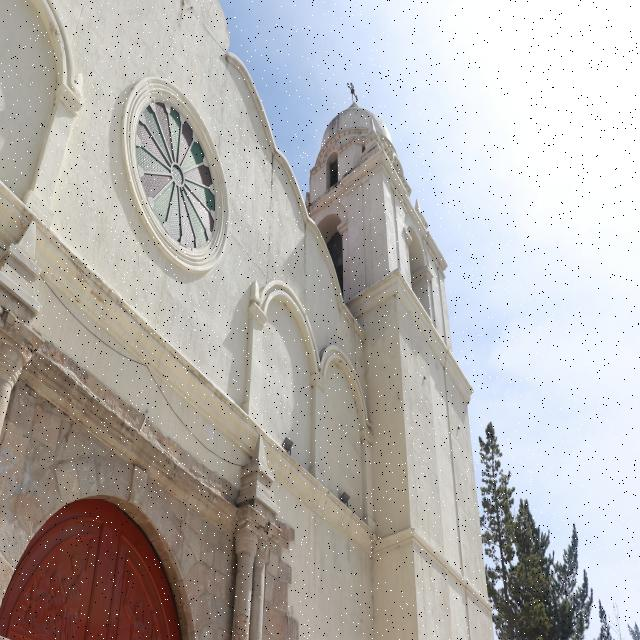CAMPANARIO: (276, 170, 474, 352)
CUPULA: (306, 92, 442, 206)
TORRES: (295, 30, 522, 640)
colonial-architecture-: (0, 0, 531, 640)
